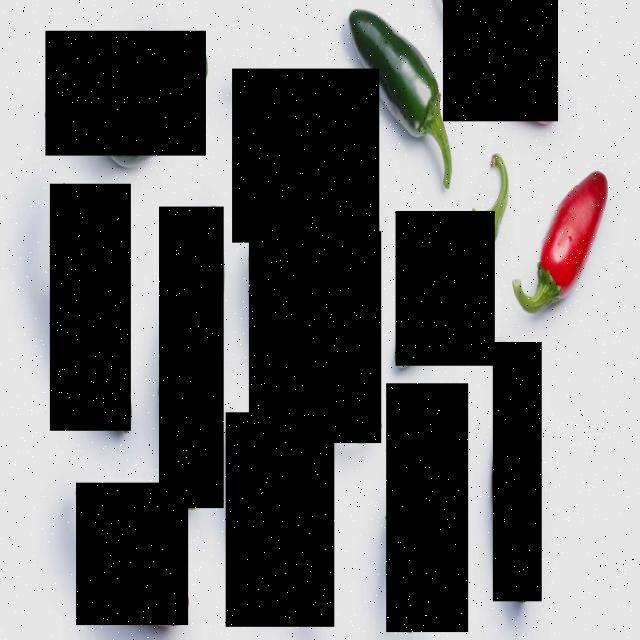Chili_Pepper: (249, 231, 381, 443), (232, 69, 379, 243), (226, 412, 334, 627), (386, 383, 468, 632), (45, 31, 206, 156), (50, 184, 131, 431), (159, 207, 224, 508), (76, 483, 188, 625), (396, 211, 495, 366), (443, 0, 558, 121), (514, 171, 608, 311), (493, 342, 542, 601)
